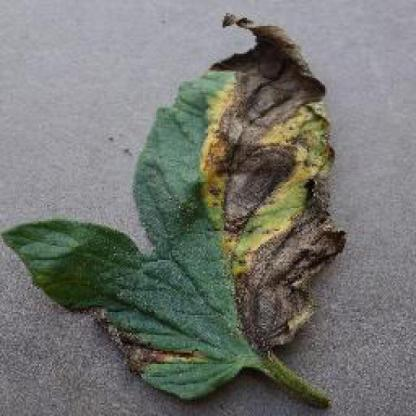Tomato_Blight: (55, 16, 344, 405)
